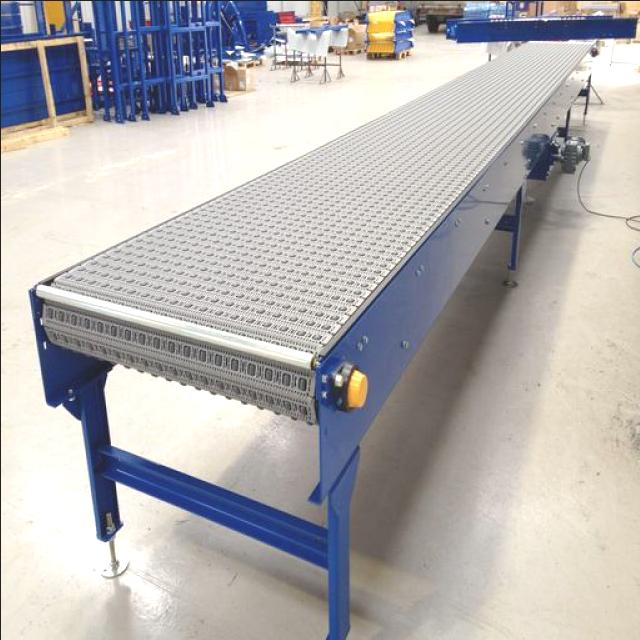conveyor: (35, 41, 590, 420)
